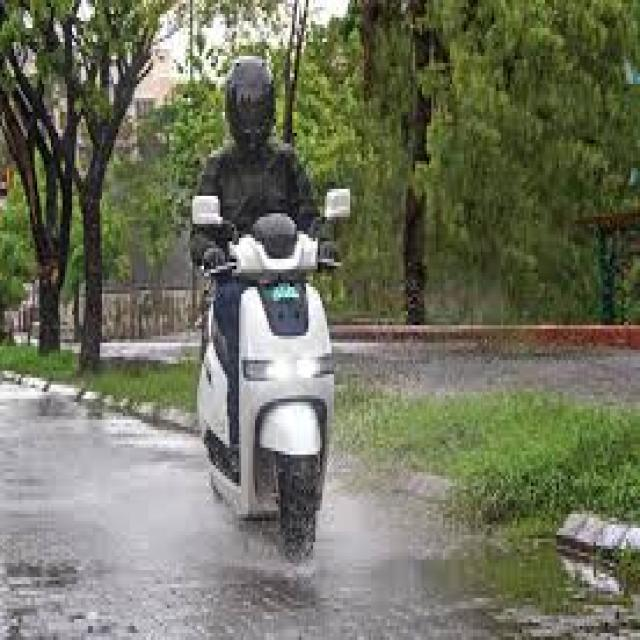Scooty: (186, 43, 325, 500)
